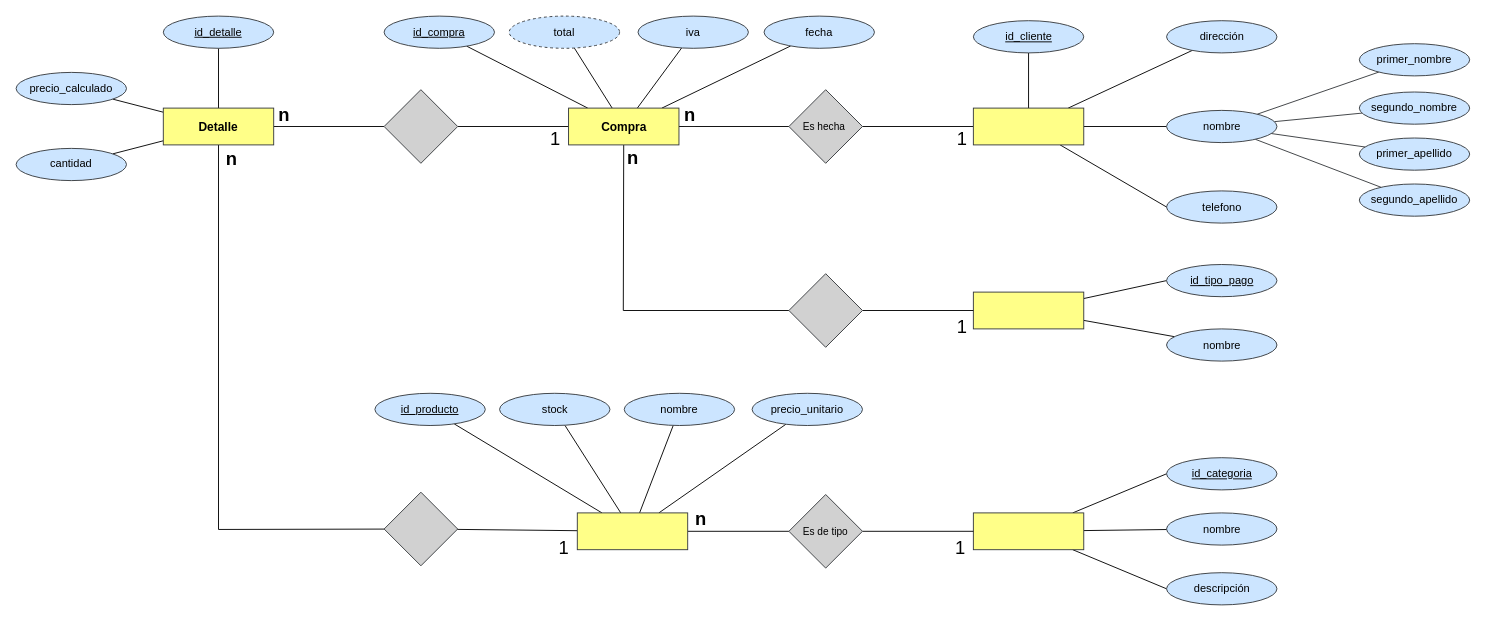
Some shapes in this 1486 by 621 pixel diagram are drawn without their labels. Here are the shapes that lost their labels. From the top down, the centre of each, then its label:
point (420, 126): Compone
point (1028, 126): Cliente
point (825, 310): Tiene
point (1028, 310): Tipo_de_pago
point (420, 528): Compuesto por un
point (632, 531): Producto
point (1028, 531): Categoria
